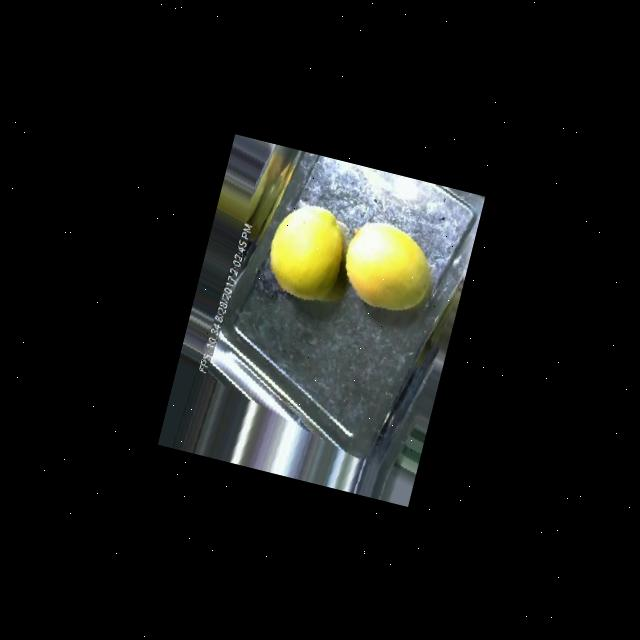Mango: (333, 214, 442, 318), (258, 196, 353, 305)
